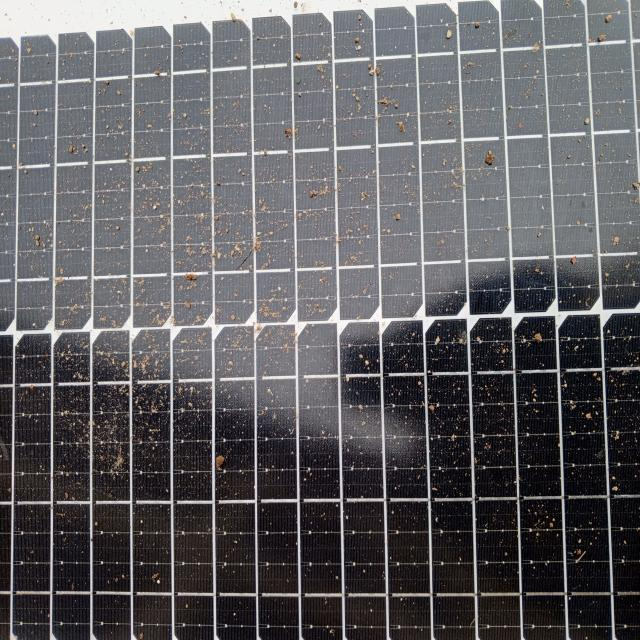Surface Contaminant: (3, 21, 639, 635)
